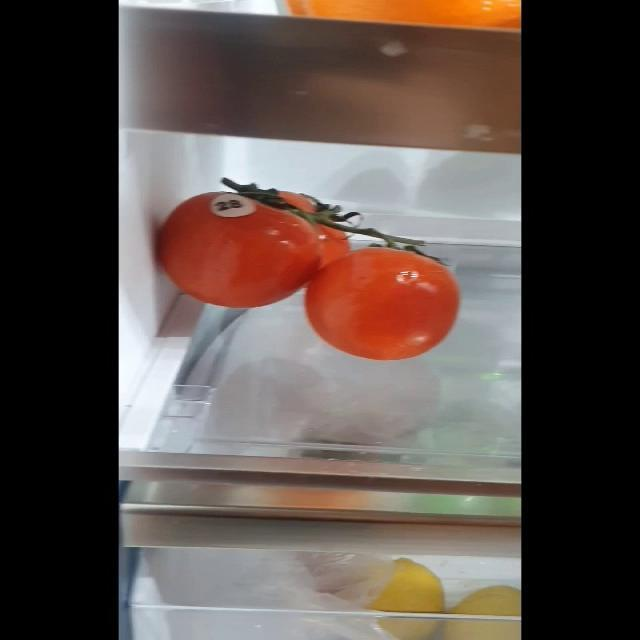tomato: (310, 246, 467, 360)
tomatoes: (153, 188, 318, 304)
